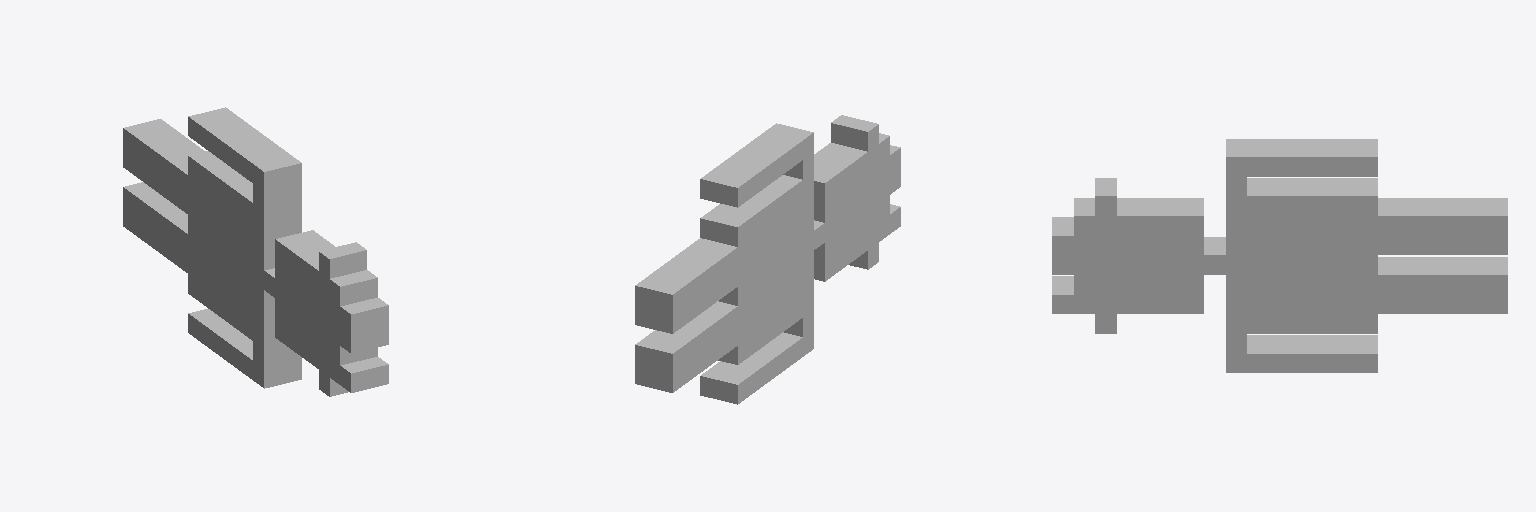
Rendered from Stan54goda.obj.
3 renders of one model, left to right at view 1: azimuth 30°, elevation 25°; view 2: azimuth 150°, elevation 25°; view 3: azimuth 270°, elevation 25°, orthographic.
Bounding box in the file's own units: 2 × 11 × 21.